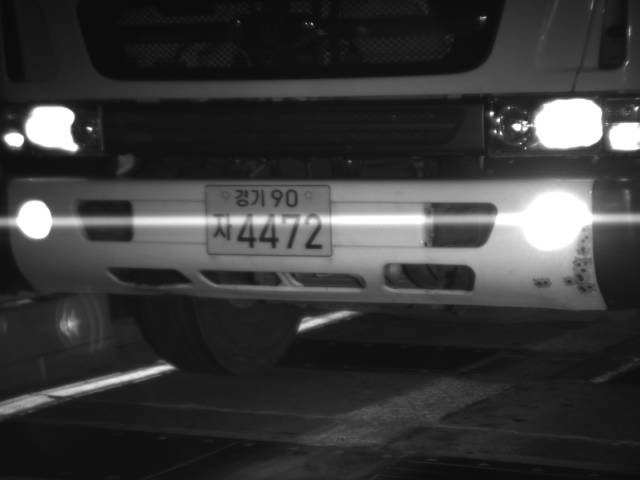car: (1, 1, 639, 376)
plate: (203, 183, 334, 258)
